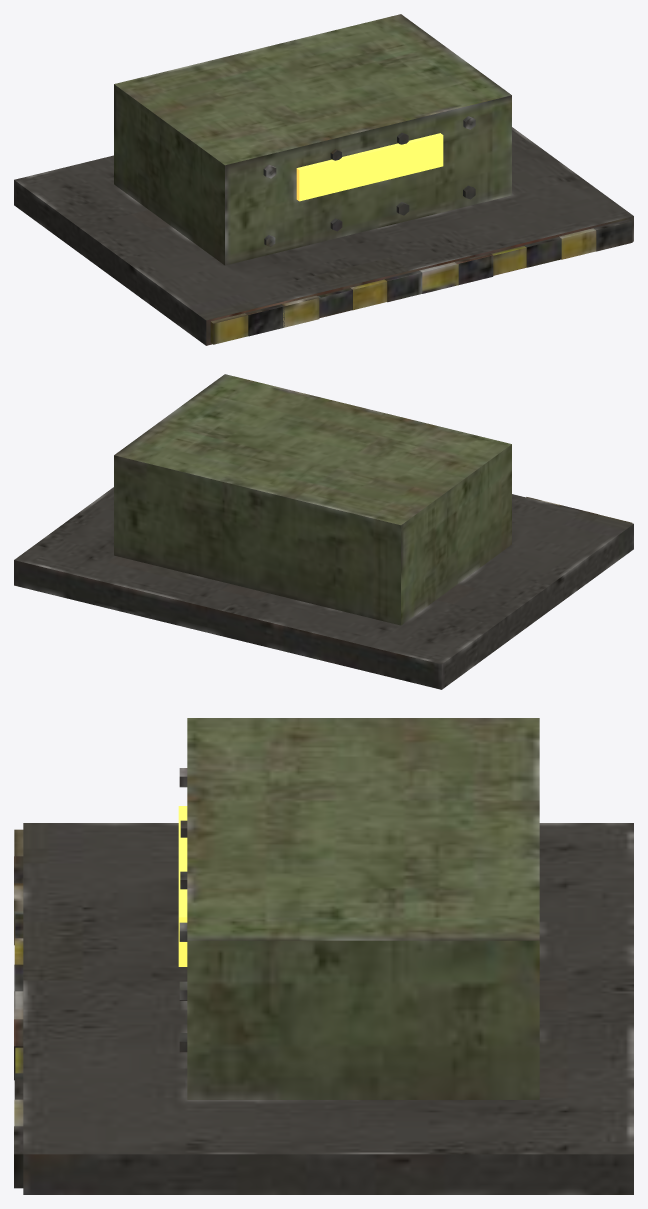
The model's file is feReflowOven.glb.
3 renders of one model, top to bottom at view 1: azimuth 30°, elevation 25°; view 2: azimuth 150°, elevation 25°; view 3: azimuth 270°, elevation 25°, orthographic. The views are drawn at different scales.
Parts seen in each view (by area): view 1: feReflowOven_Base; view 2: feReflowOven_Base; view 3: feReflowOven_Base.
Boxes of the visible parts, x1,y1,x2,y2 form: feReflowOven_Base: (14,14,633,345); feReflowOven_Base: (14,374,633,689); feReflowOven_Base: (14,718,633,1194).
Size of the model in its own units: 0.9012 by 0.253 by 0.7121.
Materials: 2 (1 with a texture image).
